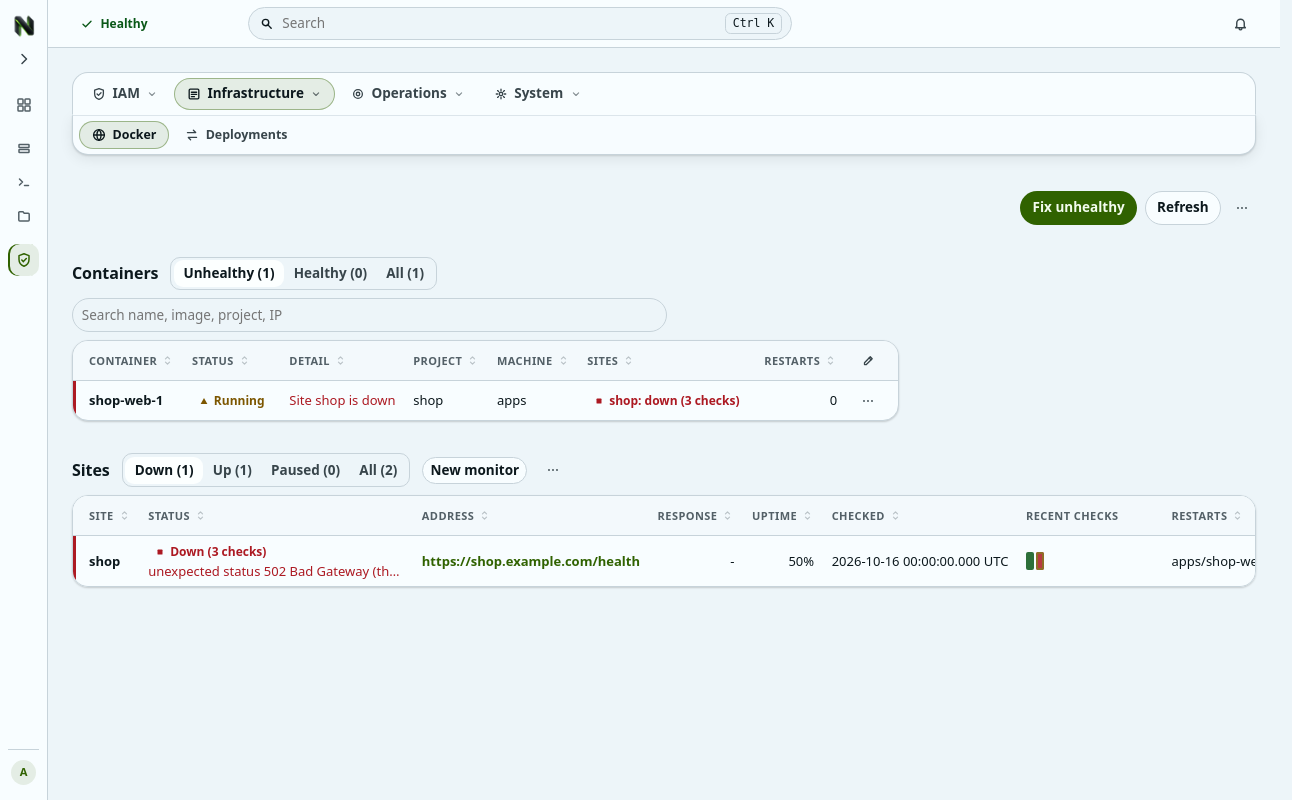
Test case: Sites on the Docker page › shows only down sites by default on /docker
Expected: the row named "site shop" is shown, [73,535,1256,586]
Click the button "All (2)": (378, 470) [350,457,407,484]
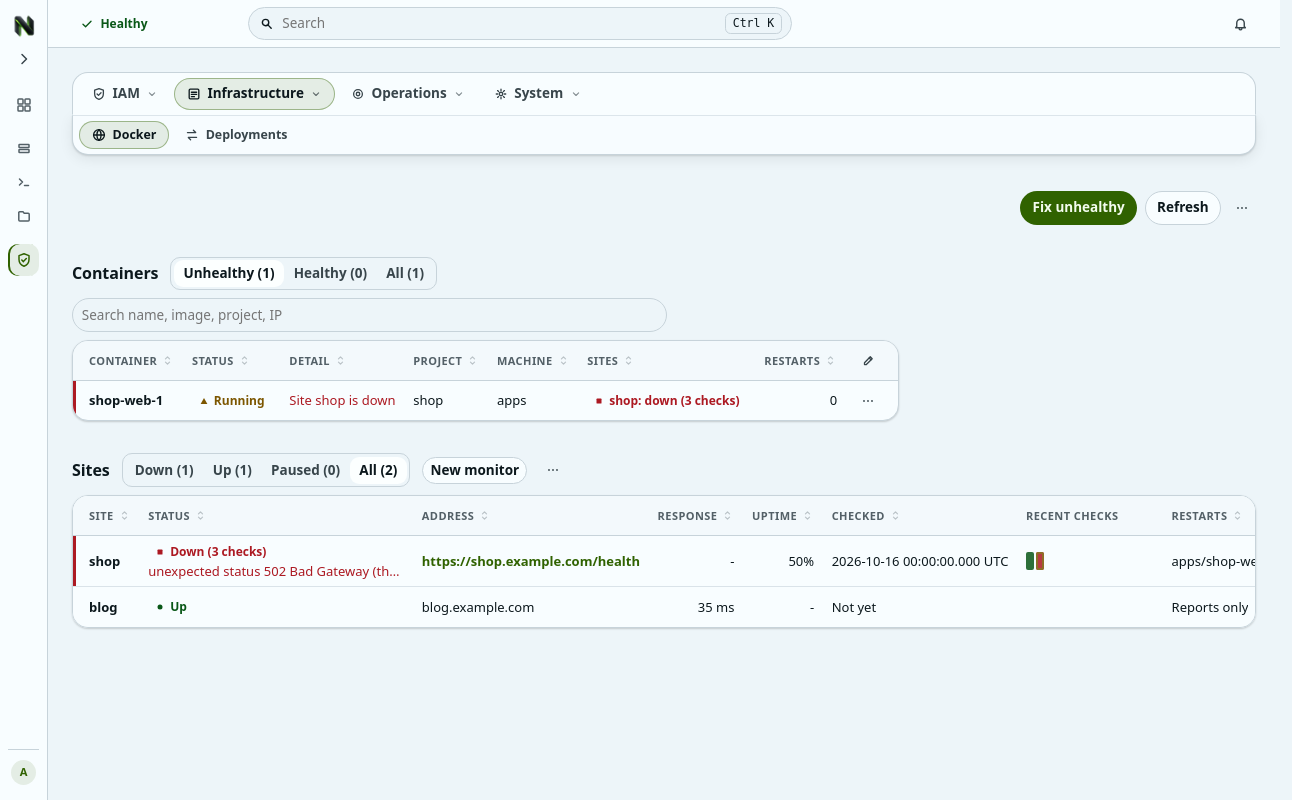
Now the row named "site blog" is shown, box [73,587,1256,627]
